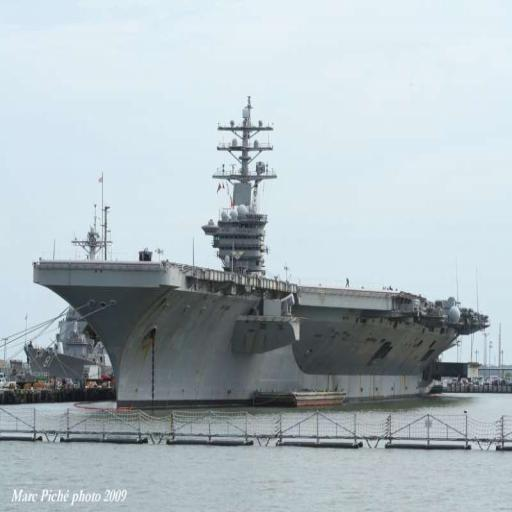Portanaves: (30, 87, 496, 422)
